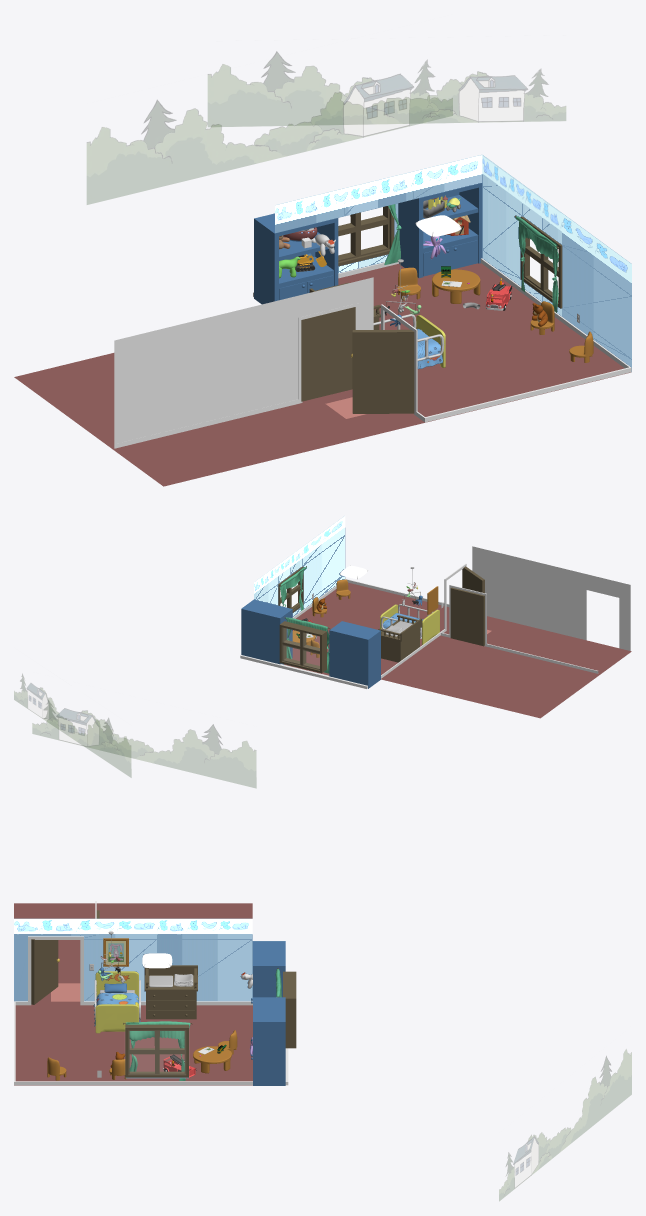
Rendered from testifinaldraconice.glb.
3 views of the same model, one above another, from view 1: azimuth 30°, elevation 25°; view 2: azimuth 150°, elevation 25°; view 3: azimuth 270°, elevation 25° (orthographic). The views are drawn at different scales.
Visible parts, largest first — view 1: Cube_0, Cube.018_43, Plane.001_23, Cube.001_1, Plane.002_24, Cube.004_3, Cube.020_69, Cube.008_10, Cube.009_11, Cube.021_45, Cube.010_12, Cube.011_18 (+6 smaller); view 2: Cube_0, Cube.028_68, Plane.001_23, Cube.001_1, Cube.008_10, Plane.002_24, Cube.009_11, Cube.021_45, Cube.010_12, Cube.011_18, Cube.034_40, crib_39 (+5 smaller); view 3: Cube_0, Cube.005_4, Plane.002_24, Cube.009_11, Cube.010_12, crib_39, Cube.034_40, Cube.015_22, Cube.008_10, Cube.020_69, Cube.011_18, Cube.023_55 (+2 smaller).
Part boxes in pixels (bbox=[...]): Cube_0: bbox=[14, 263, 630, 486]; Cube.018_43: bbox=[114, 277, 373, 448]; Plane.001_23: bbox=[87, 60, 452, 204]; Cube.001_1: bbox=[482, 155, 631, 371]; Plane.002_24: bbox=[208, 51, 565, 126]; Cube.004_3: bbox=[255, 154, 482, 289]; Cube.020_69: bbox=[352, 329, 414, 413]; Cube.008_10: bbox=[254, 213, 338, 304]; Cube.009_11: bbox=[398, 183, 482, 278]; Cube.021_45: bbox=[301, 307, 355, 401]; Cube.010_12: bbox=[253, 258, 631, 422]; Cube.011_18: bbox=[338, 206, 394, 266]; Cube_0: bbox=[292, 582, 631, 718]; Cube.028_68: bbox=[472, 546, 630, 650]; Plane.001_23: bbox=[32, 700, 256, 787]; Cube.001_1: bbox=[254, 516, 345, 616]; Cube.008_10: bbox=[329, 621, 380, 688]; Plane.002_24: bbox=[14, 674, 131, 777]; Cube.009_11: bbox=[241, 599, 292, 664]; Cube.021_45: bbox=[450, 587, 484, 646]; Cube.010_12: bbox=[240, 563, 466, 688]; Cube.011_18: bbox=[279, 621, 326, 673]; Cube.034_40: bbox=[378, 615, 422, 662]; crib_39: bbox=[380, 604, 439, 644]; Cube_0: bbox=[14, 903, 252, 1085]; Cube.005_4: bbox=[14, 918, 252, 1001]; Plane.002_24: bbox=[499, 1049, 631, 1200]; Cube.009_11: bbox=[251, 997, 285, 1085]; Cube.010_12: bbox=[14, 936, 288, 1085]; crib_39: bbox=[93, 971, 140, 1033]; Cube.034_40: bbox=[144, 965, 197, 1019]; Cube.015_22: bbox=[125, 1024, 188, 1077]; Cube.008_10: bbox=[251, 941, 285, 1003]; Cube.020_69: bbox=[31, 939, 59, 1004]; Cube.011_18: bbox=[283, 971, 296, 1048]; Cube.023_55: bbox=[123, 1021, 192, 1080].
Size of the model in its own units: 17.5 by 3.51 by 16.6.
Materials: 60 (11 with a texture image).
